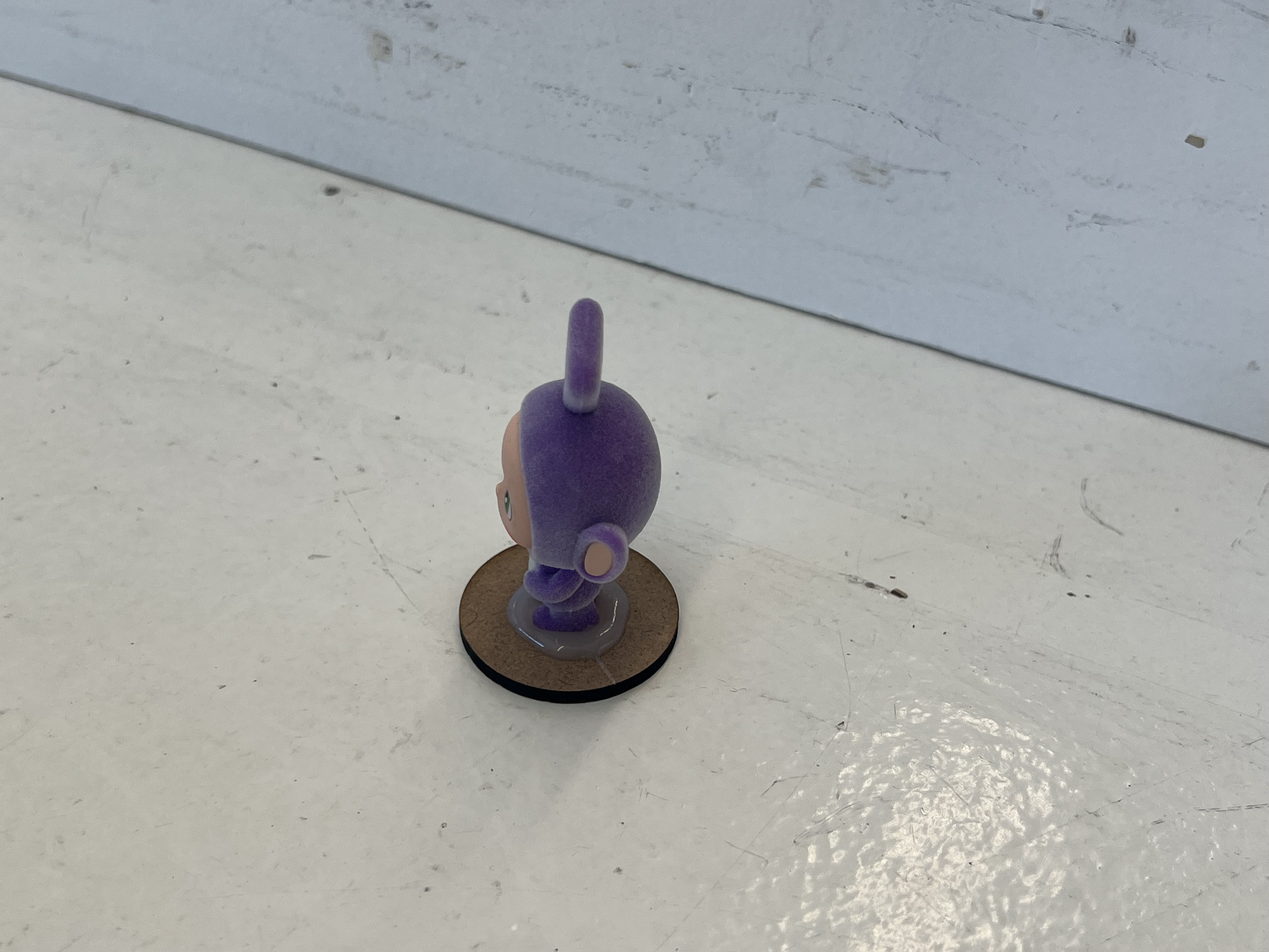teletubby: (497, 299, 660, 632)
